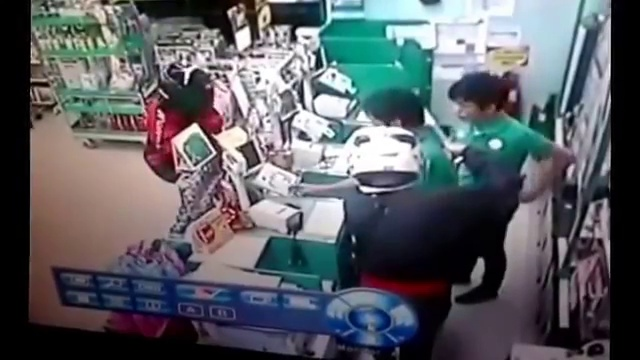helmet: (340, 126, 425, 194), (153, 56, 216, 107)
